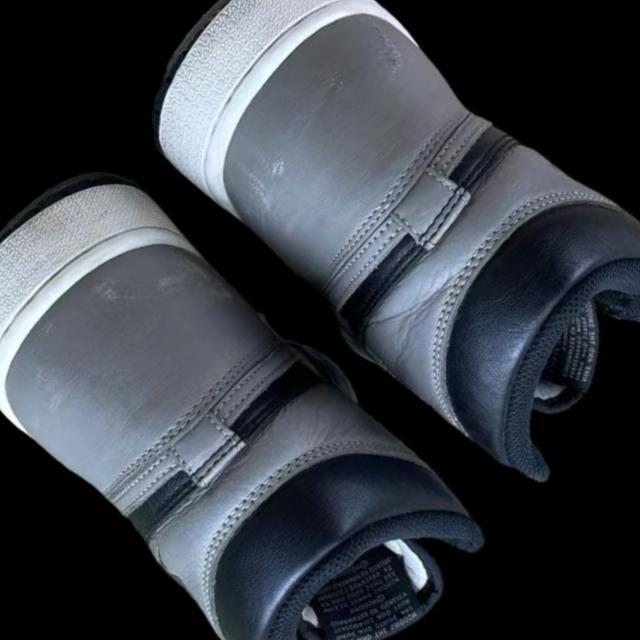nike original jordan 1: (0, 121, 525, 640), (111, 0, 640, 512)
